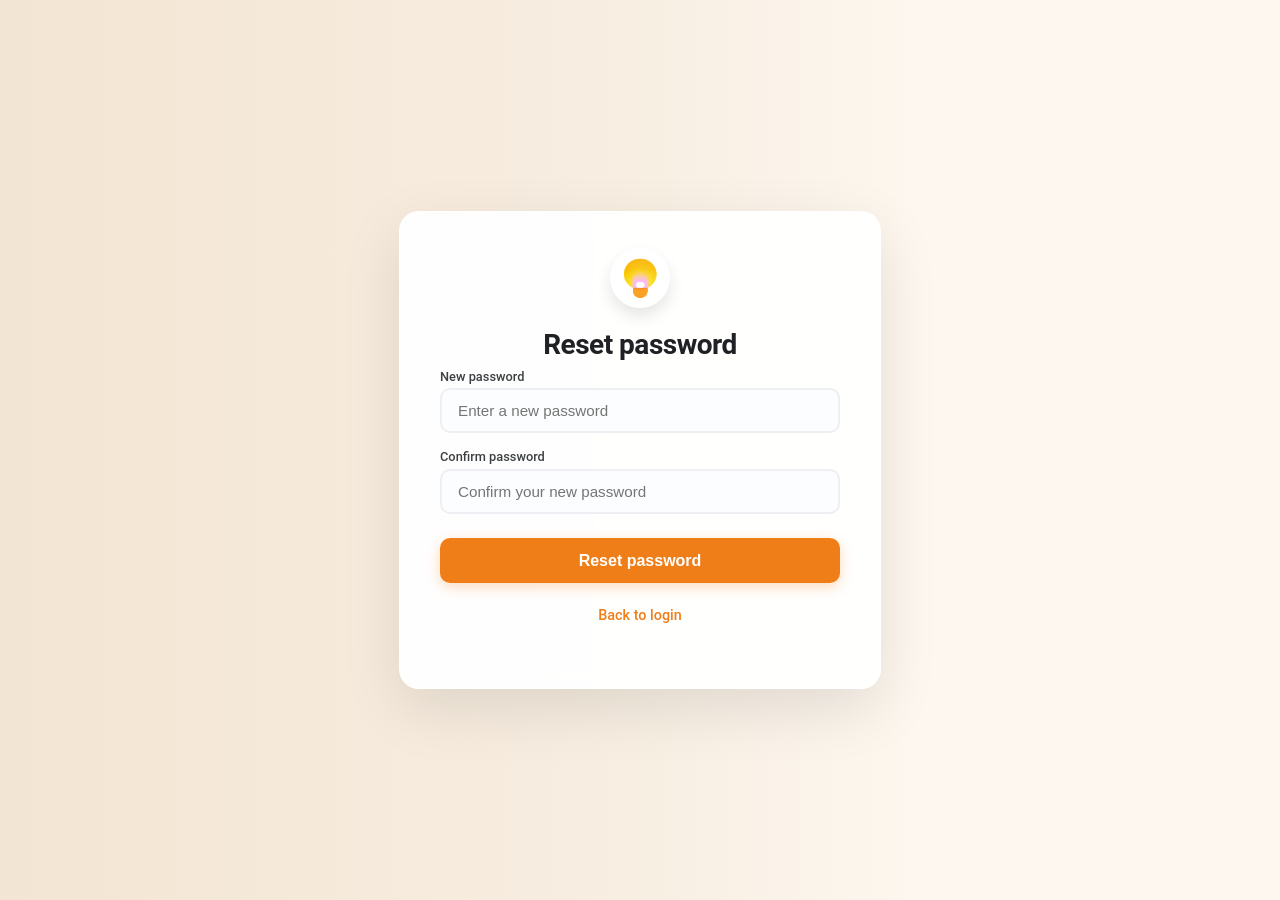
Test: ResetPasswordPage › resets the password when the passwords match
Type "newPassword1" into the password field with placeholder "Enter a new password" at (640, 411), box [440,388,840,433]
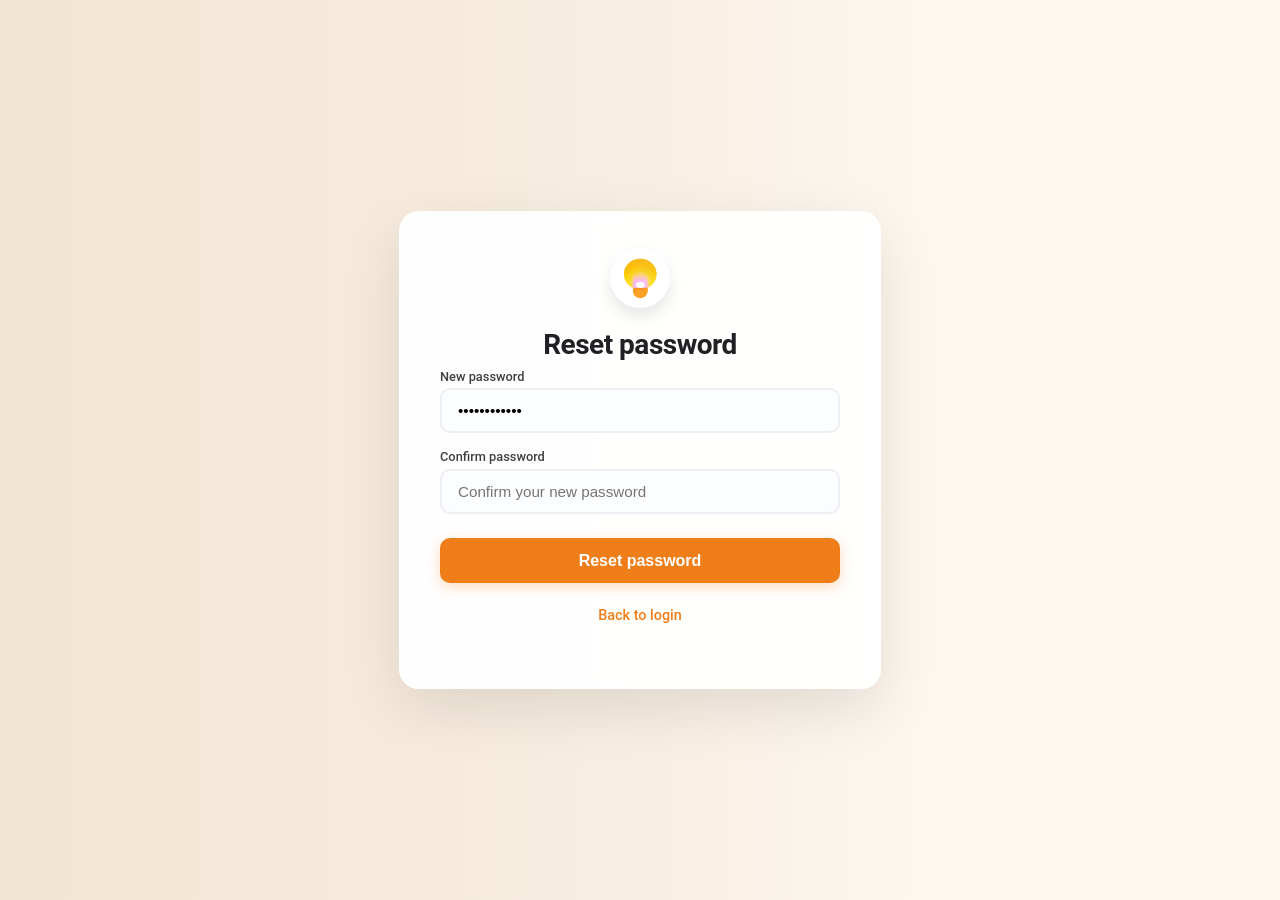
Type "newPassword1" into the password field with placeholder "Confirm your new password" at (640, 492), box [440,469,840,514]
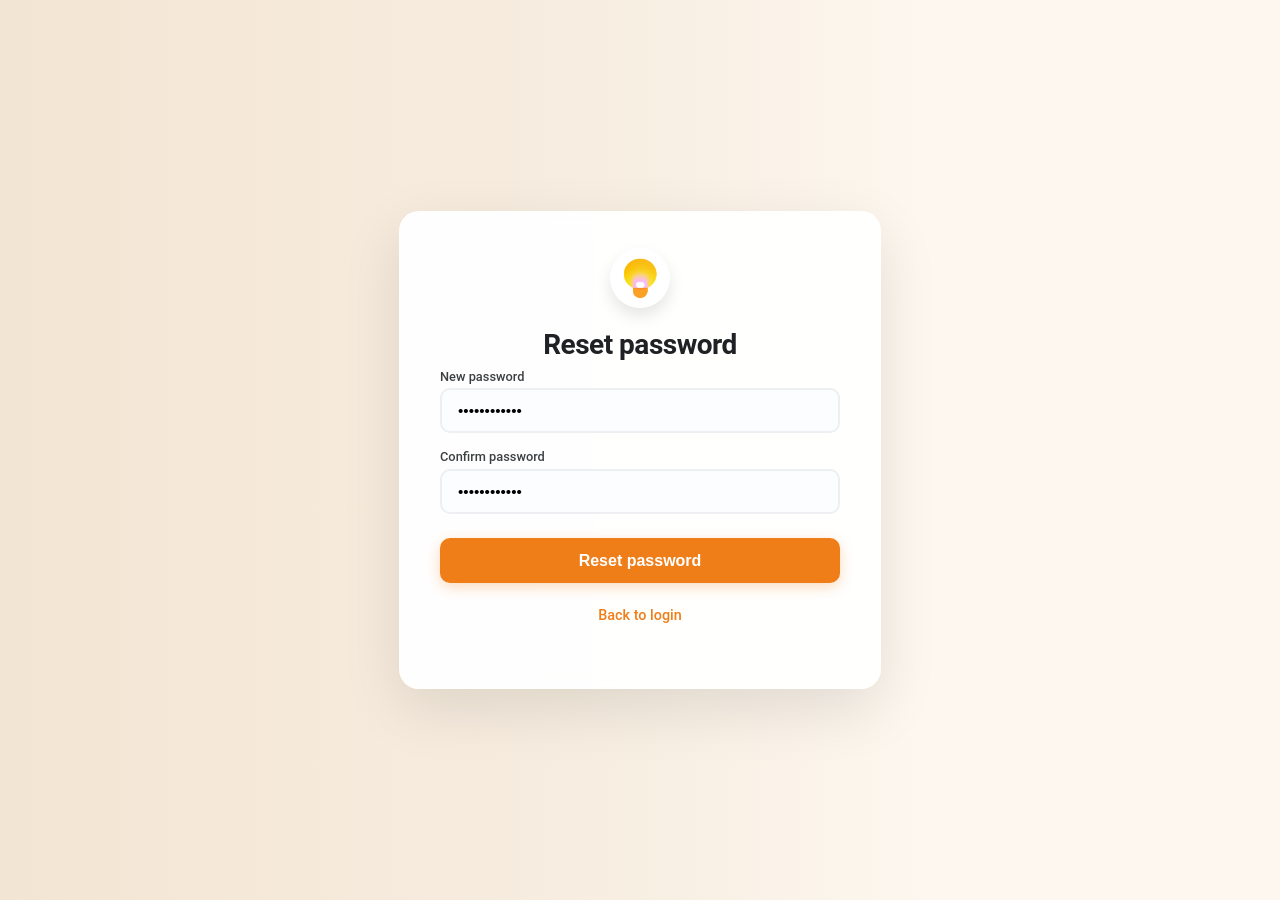
Click the button "Reset password" at (640, 561), box [440,538,840,583]
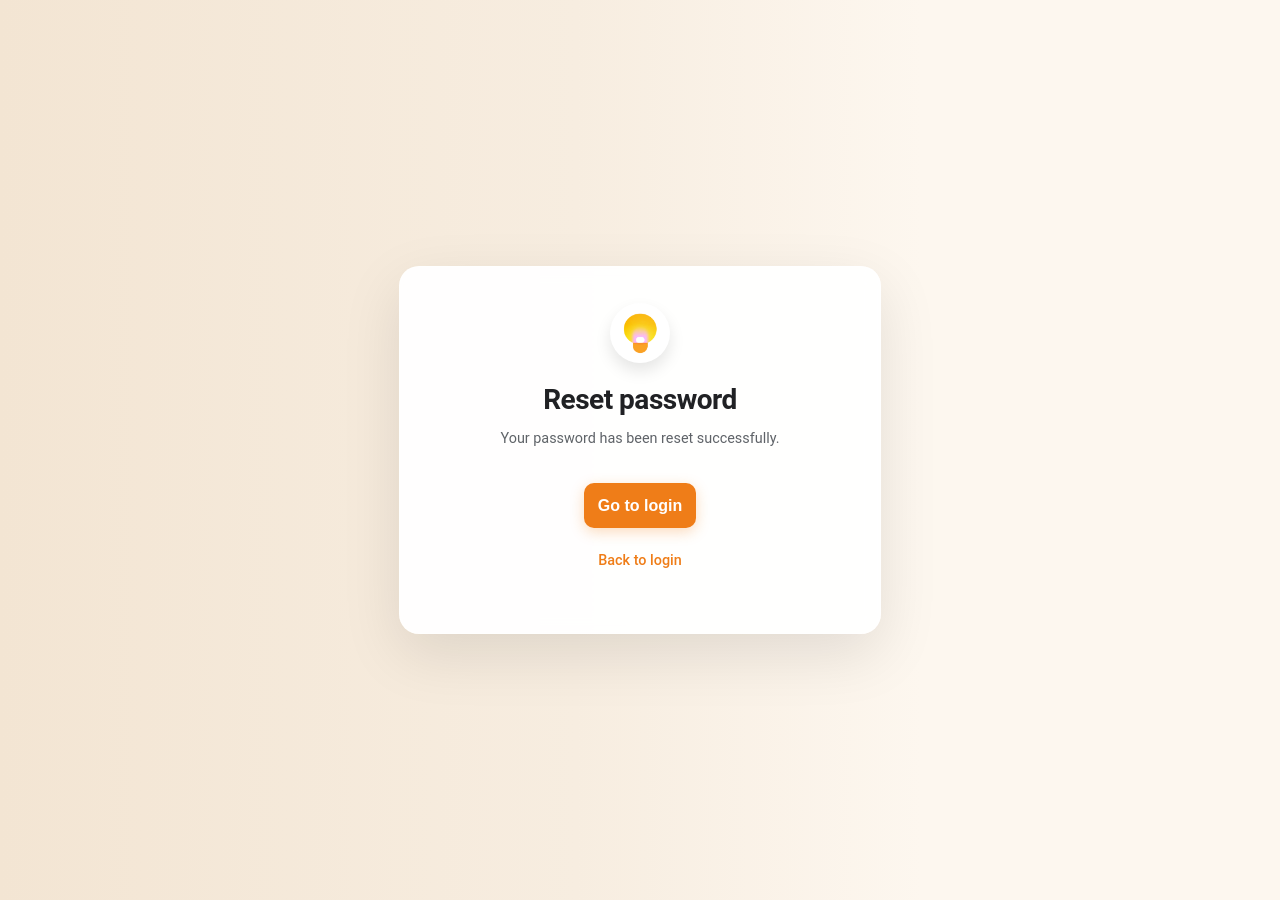
Now the text "Your password has been reset successfully." is shown, box [500,430,780,447]
